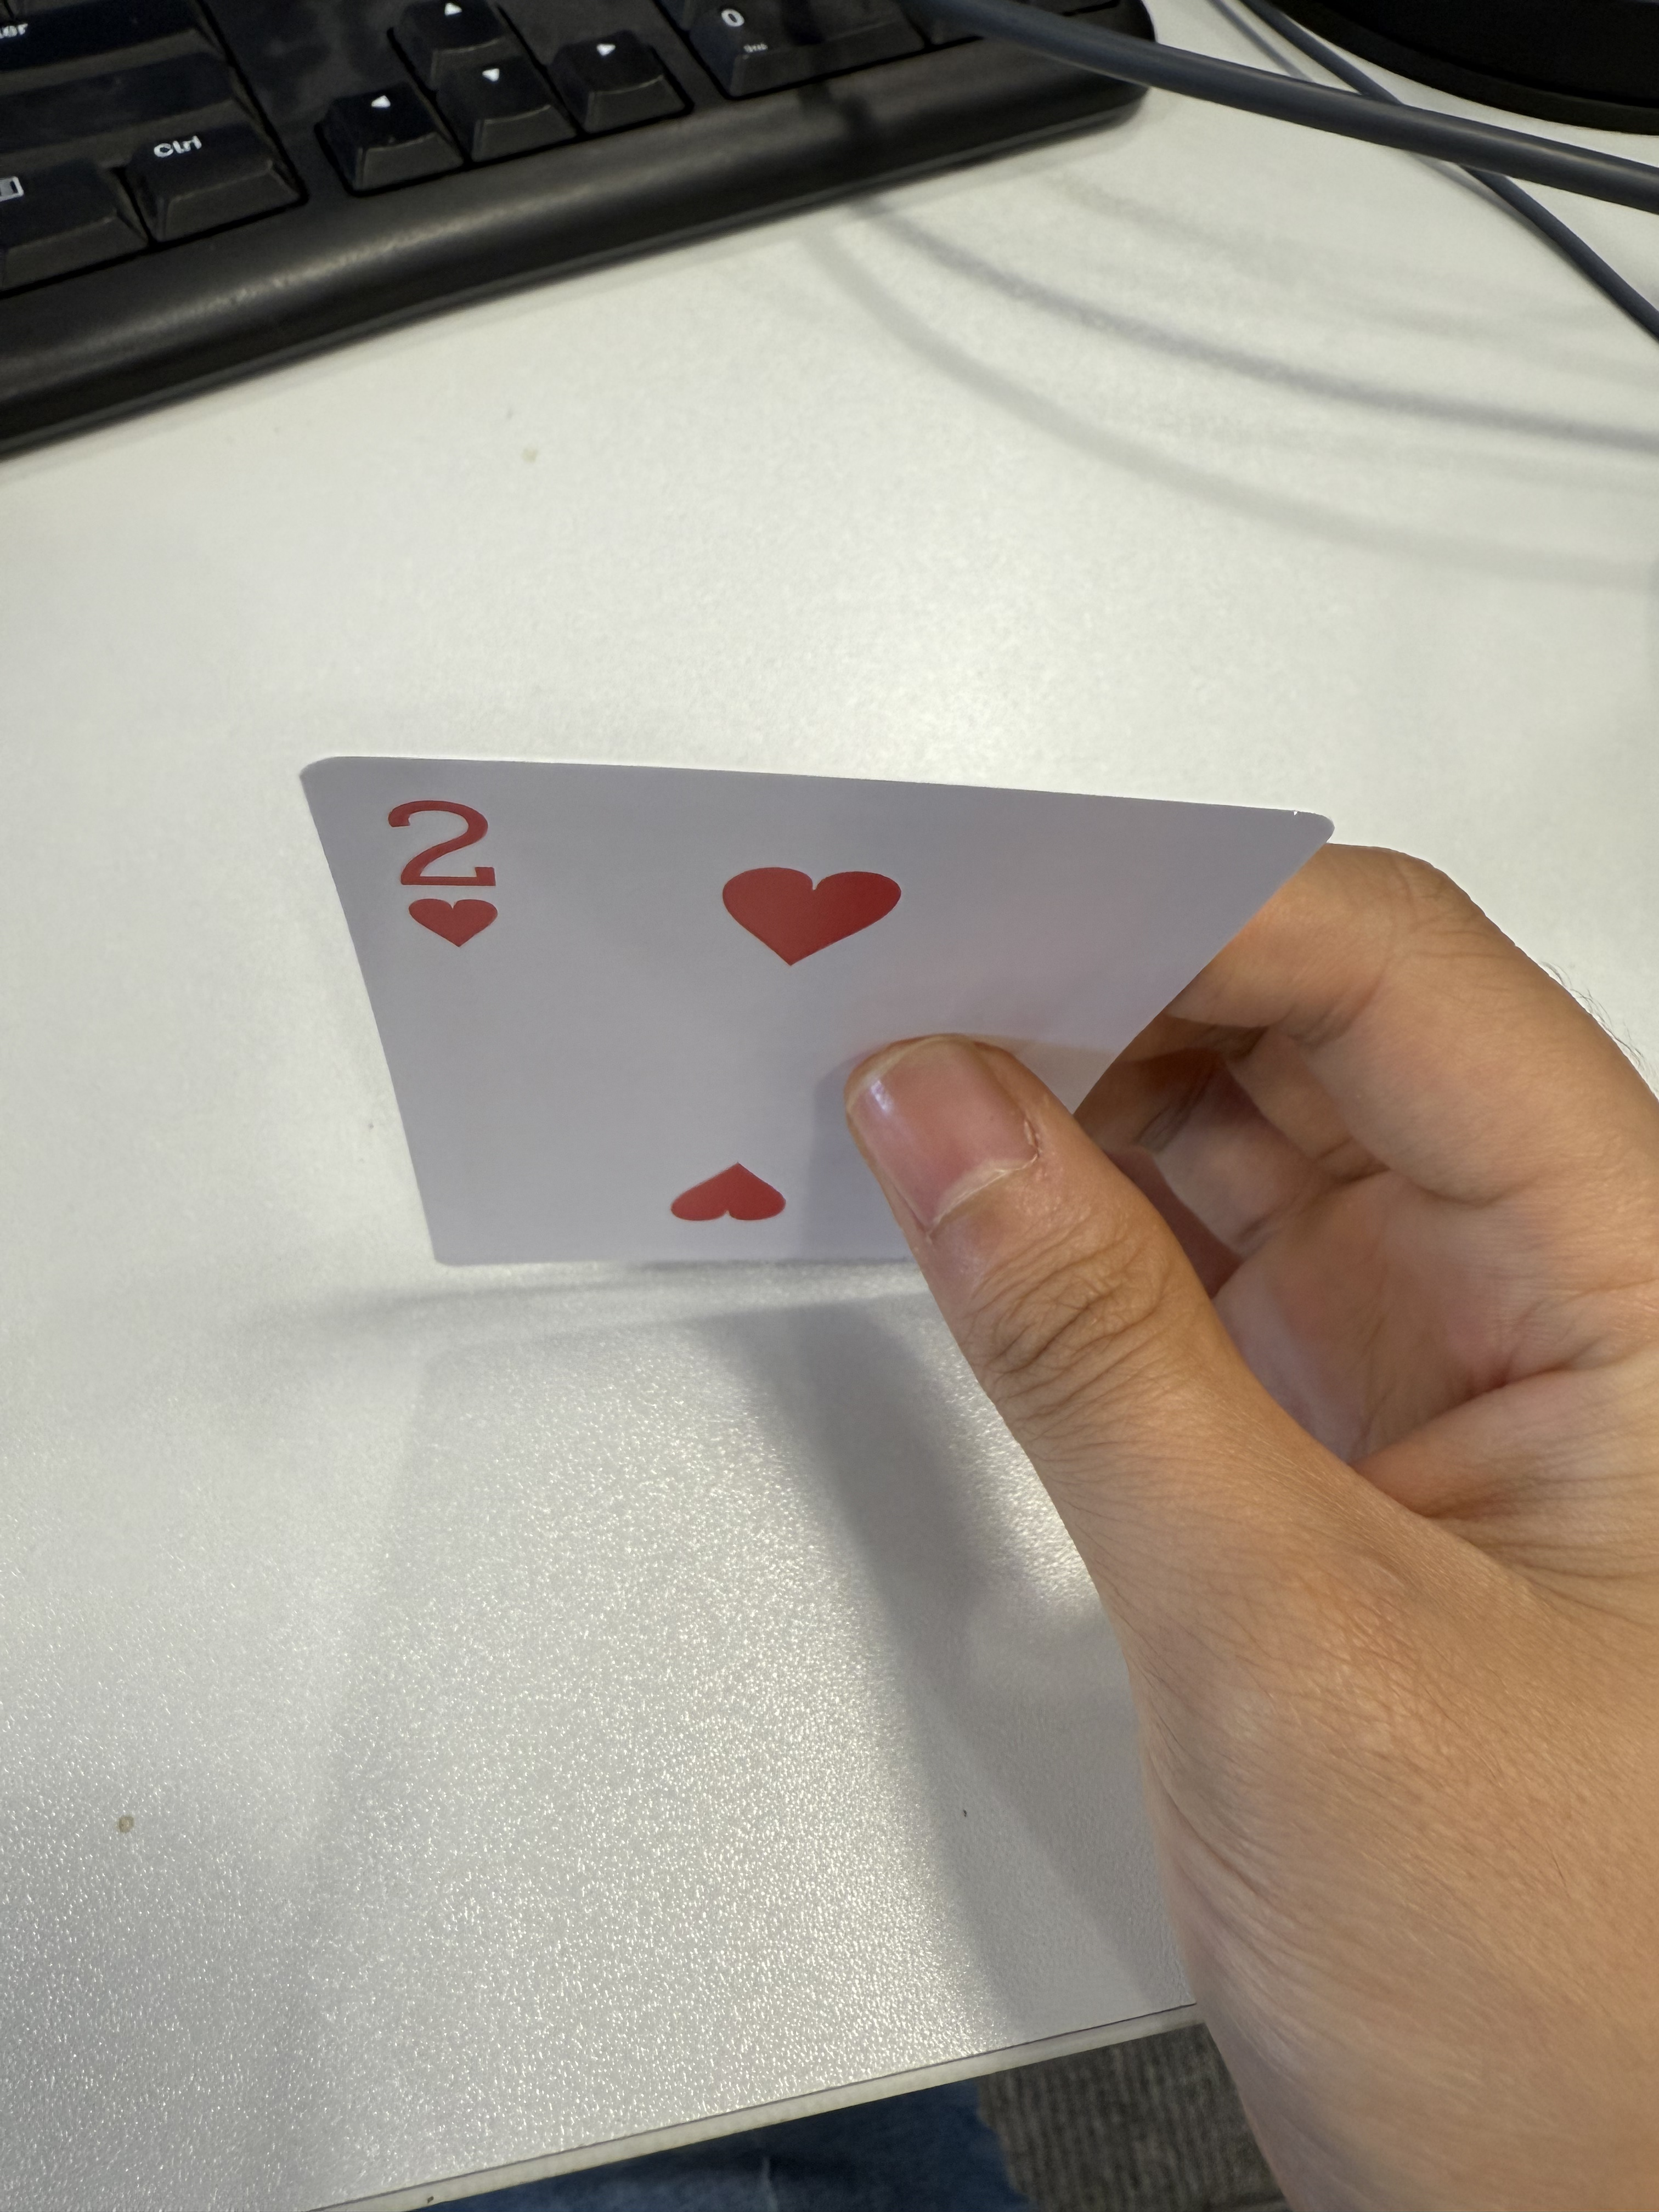poker: (289, 745, 1342, 1271)
